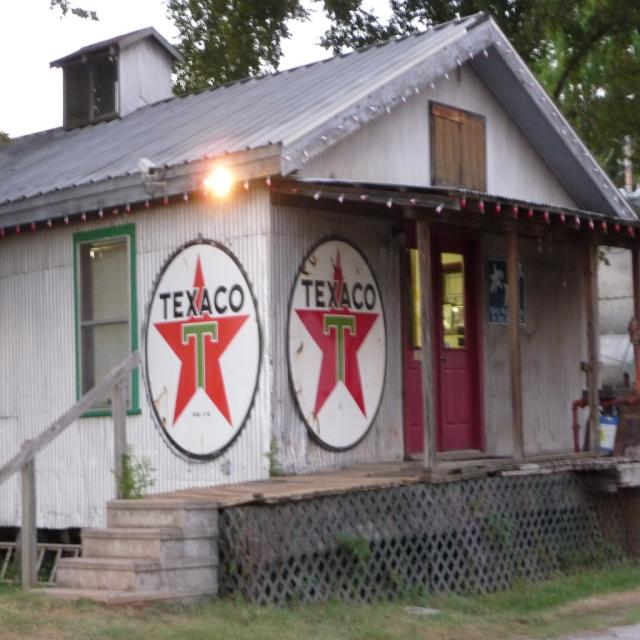texaco: (144, 242, 260, 457), (287, 239, 387, 452)
